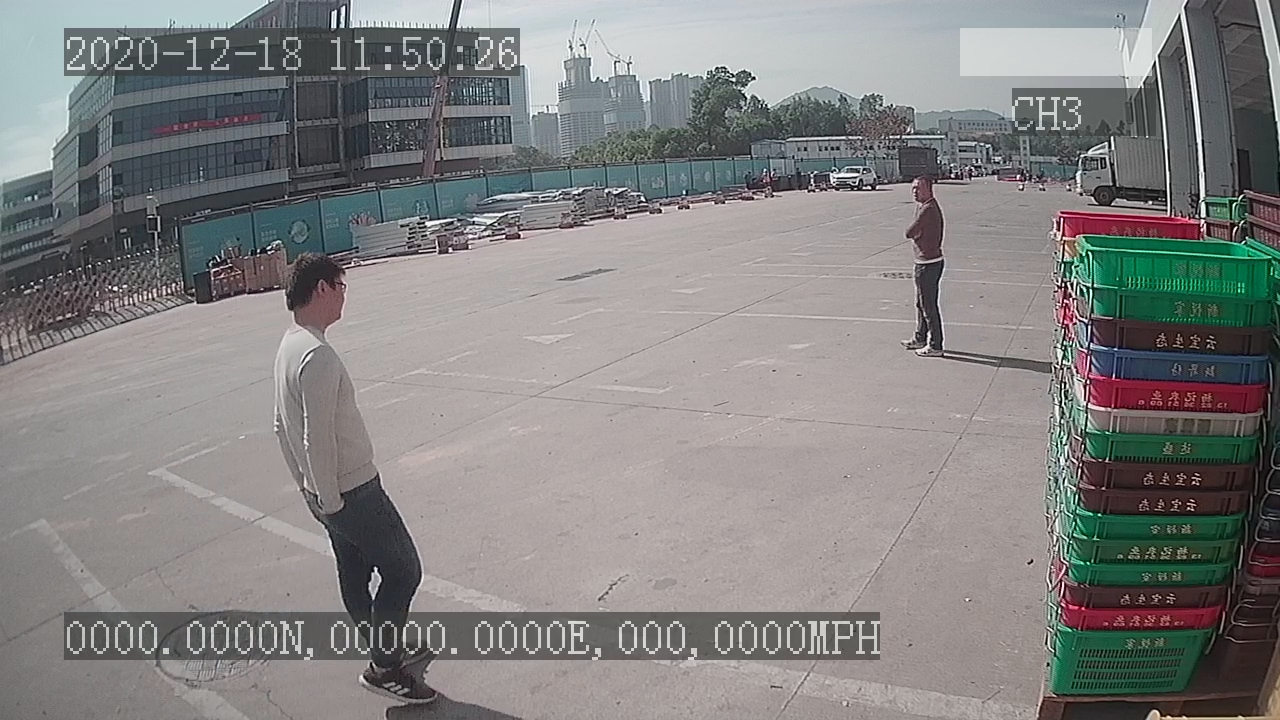person: (897, 176, 952, 363)
